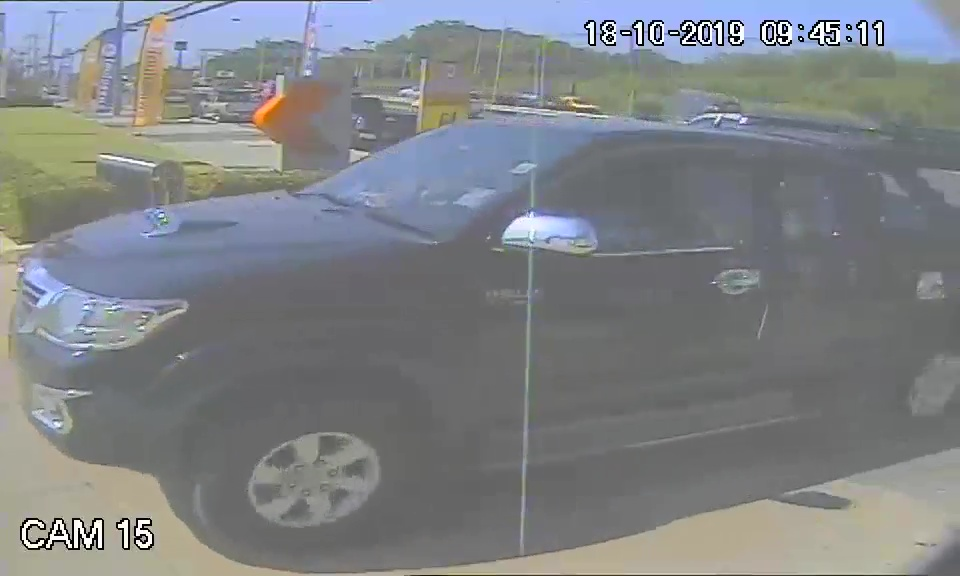pickup: (7, 116, 960, 504)
